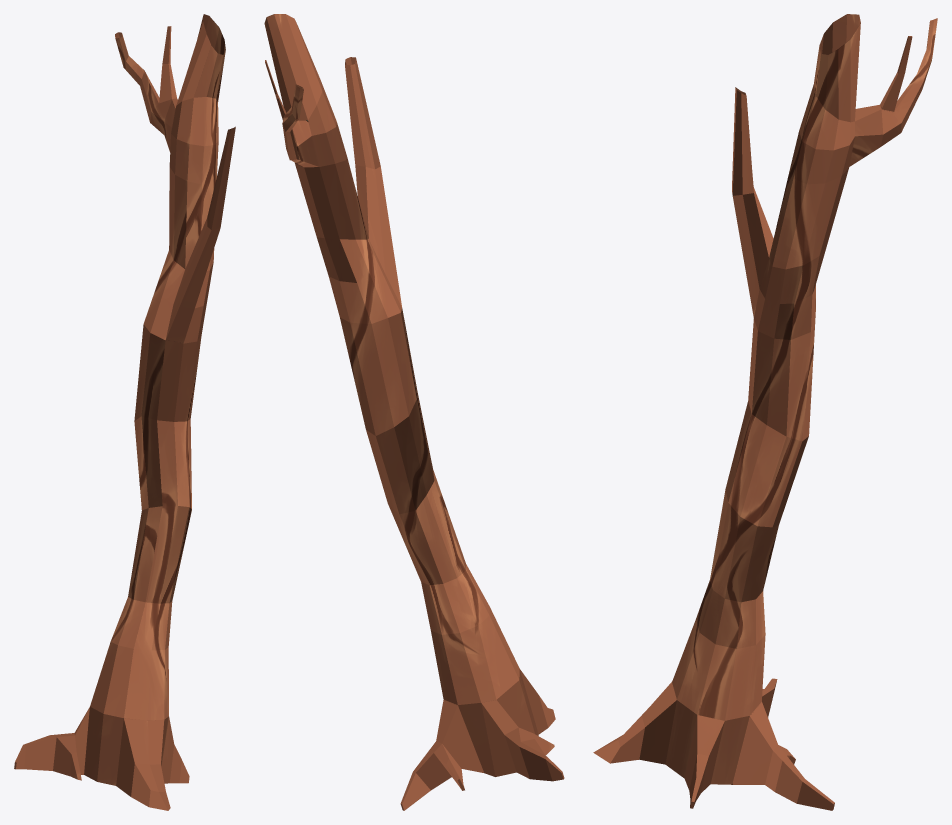
Rendered from tree stwol.fbx.
The picture shows the model from 3 angles, left to right: view 1: azimuth 30°, elevation 25°; view 2: azimuth 150°, elevation 25°; view 3: azimuth 270°, elevation 25°; orthographic projection. The views are drawn at different scales.
Parts seen in each view (by area): view 1: SM_SeaBox.030; view 2: SM_SeaBox.030; view 3: SM_SeaBox.030.
Boxes of the visible parts, box(x1,y1,x2,y2) form: SM_SeaBox.030: box(14, 14, 235, 810); SM_SeaBox.030: box(264, 14, 564, 810); SM_SeaBox.030: box(593, 14, 937, 810).
Bounding box in the file's own units: 1706 × 4833 × 1757.
Materials: 1 (1 with a texture image).
